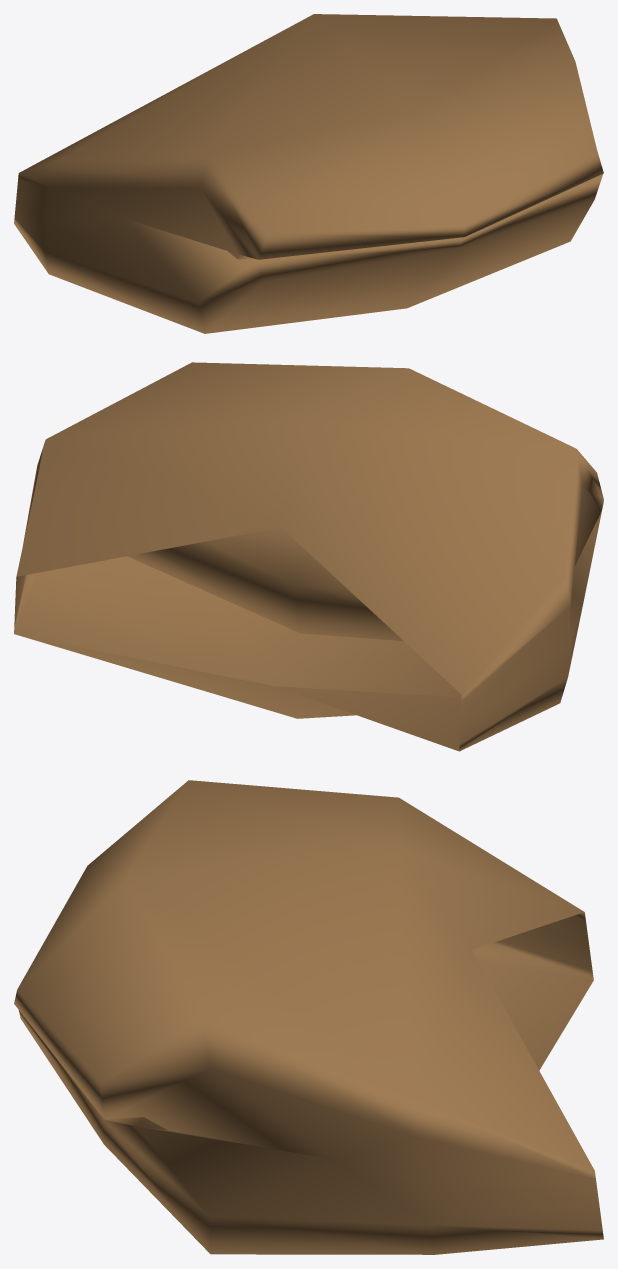
The model's file is MODEL_Bankseedpod_G4_3.fbx.
The picture shows the model from 3 angles, top to bottom: view 1: azimuth 30°, elevation 25°; view 2: azimuth 150°, elevation 25°; view 3: azimuth 270°, elevation 25°; orthographic projection. The views are drawn at different scales.
Visible parts, largest first — view 1: Geo_seedpodslargelow_Base; view 2: Geo_seedpodslargelow_Base; view 3: Geo_seedpodslargelow_Base.
Boxes of the visible parts, bbox=[...] form: Geo_seedpodslargelow_Base: bbox=[14, 14, 603, 333]; Geo_seedpodslargelow_Base: bbox=[14, 362, 603, 751]; Geo_seedpodslargelow_Base: bbox=[14, 780, 603, 1254].
Size of the model in its own units: 2.04 by 1.04 by 1.54.
